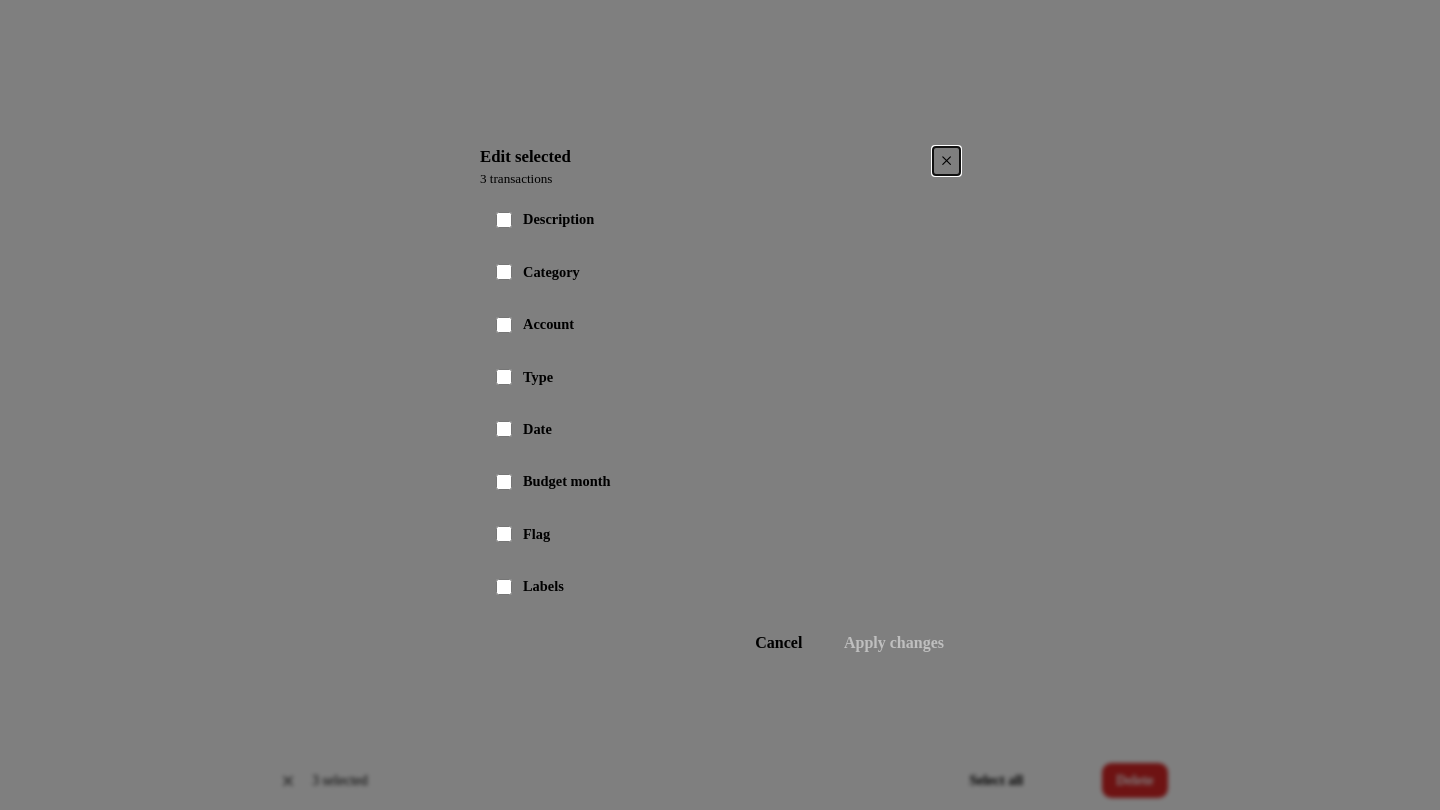
it: TransactionsSelectFooter bulk edit › tells the rename field which descriptions the chosen rows carry today
This screenshot has width=1440, height=810.
Click the checkbox labelled "Description" at {"x": 504, "y": 220}, box [496,212,512,228]
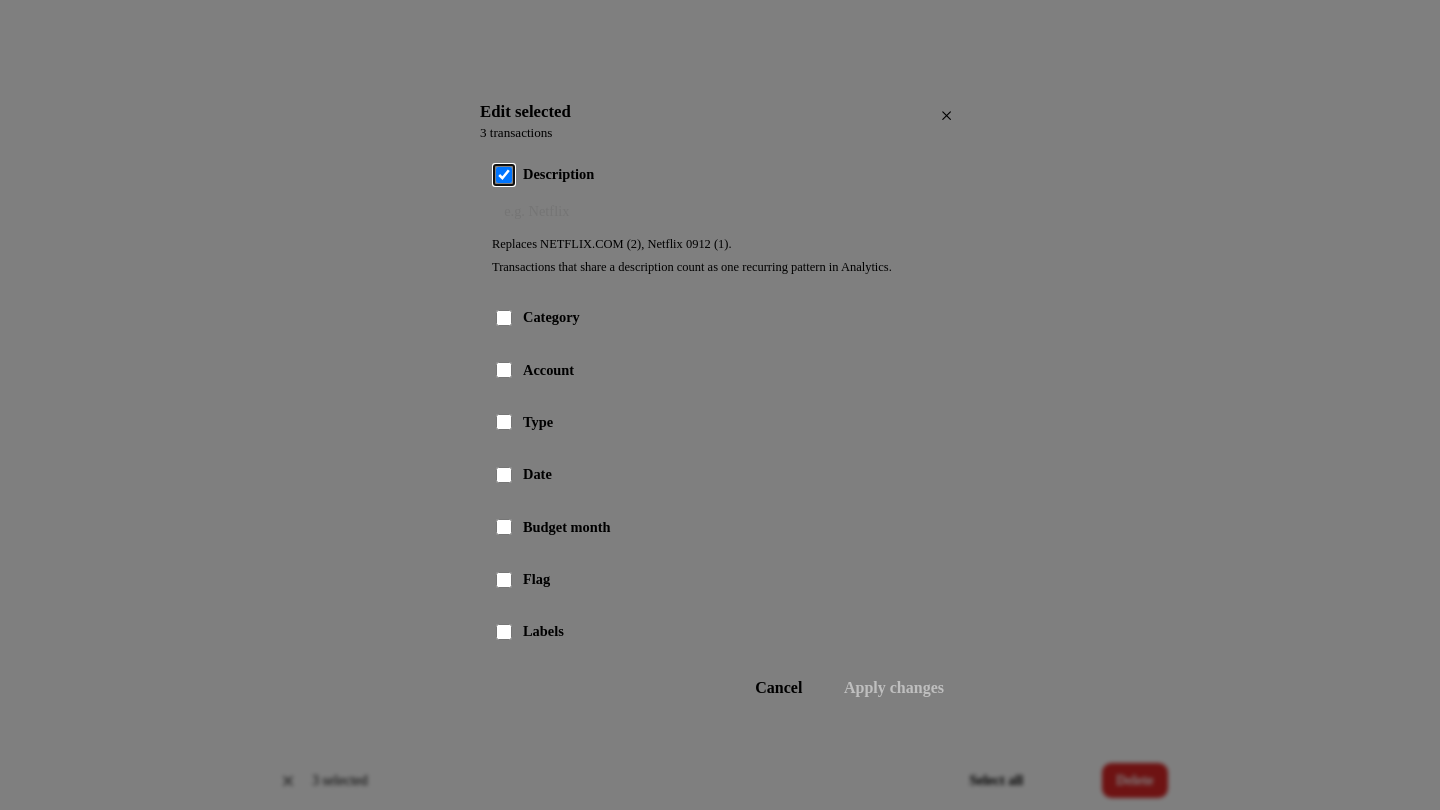
Expected: the text "Replaces NETFLIX.COM (2), Netflix 0912 (1)." is shown, [492,237,732,251]
